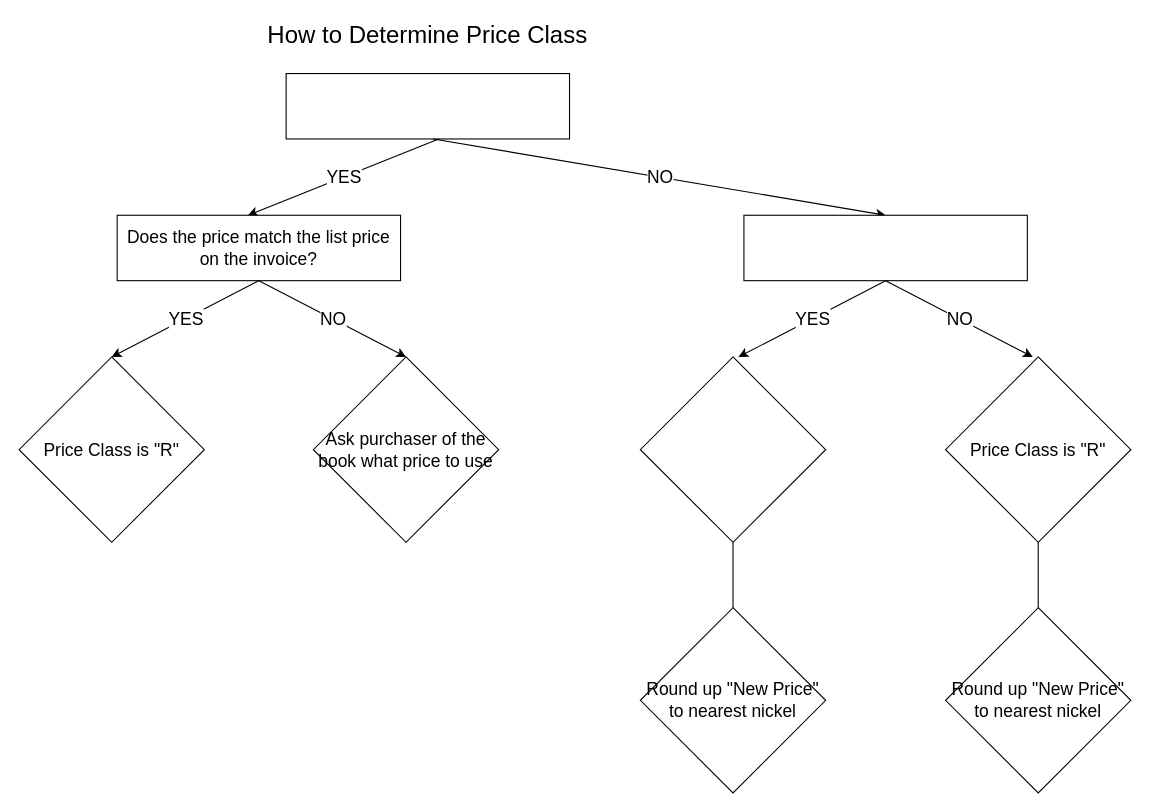
Some shapes in this 1150 by 812 pixel diagram are drawn without their labels. The centre of each missing label's shape, as x and y in pixels:
Does the book have a price on it?: point (427, 105)
Is it a course book?: point (885, 247)
Price Class is "R1": point (732, 449)
